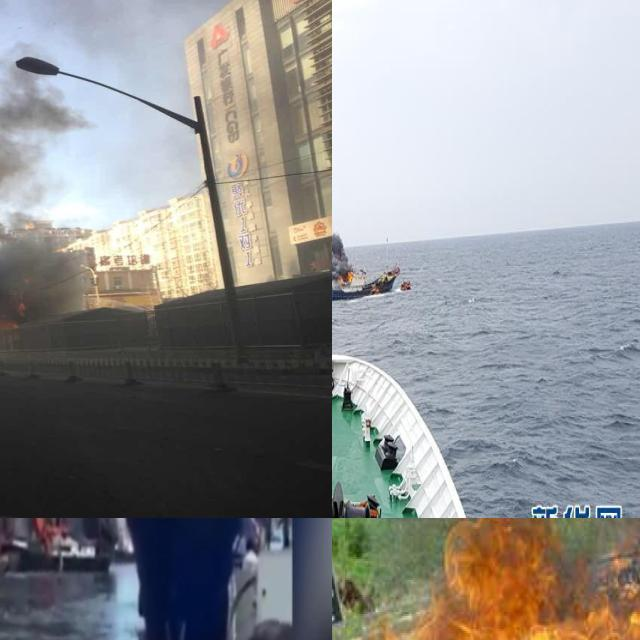fire: (332, 518, 640, 640), (339, 268, 353, 286)
smoke: (0, 0, 99, 325)
